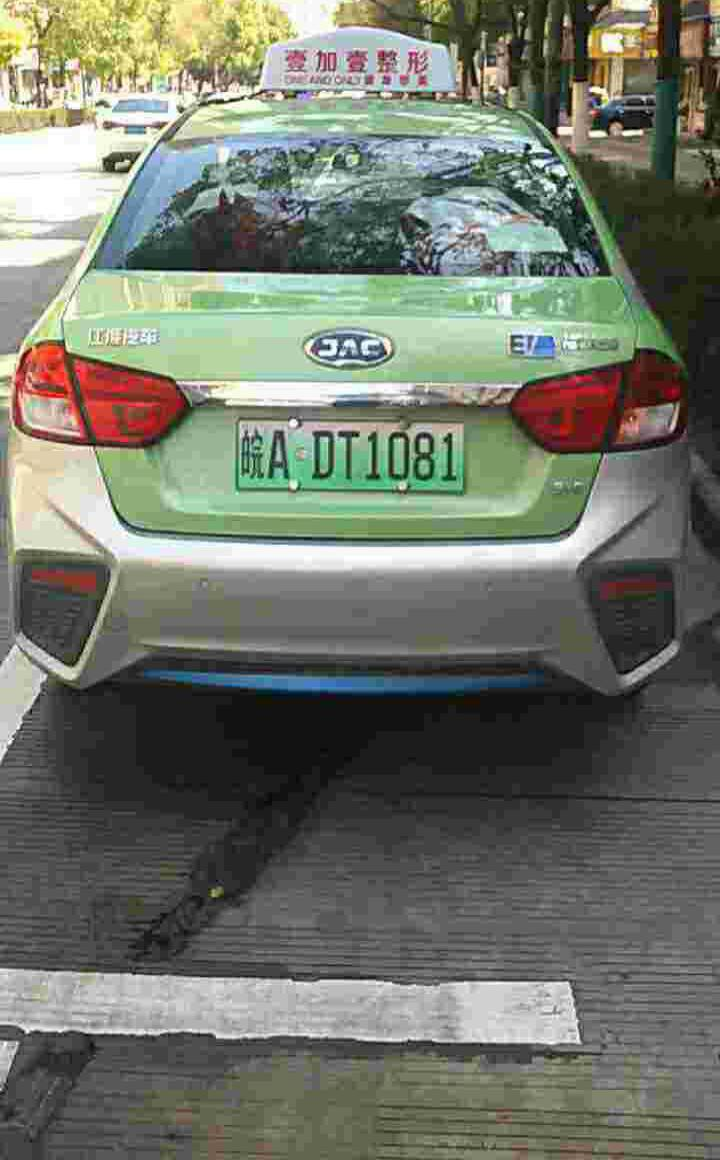car: (234, 394, 477, 497)
